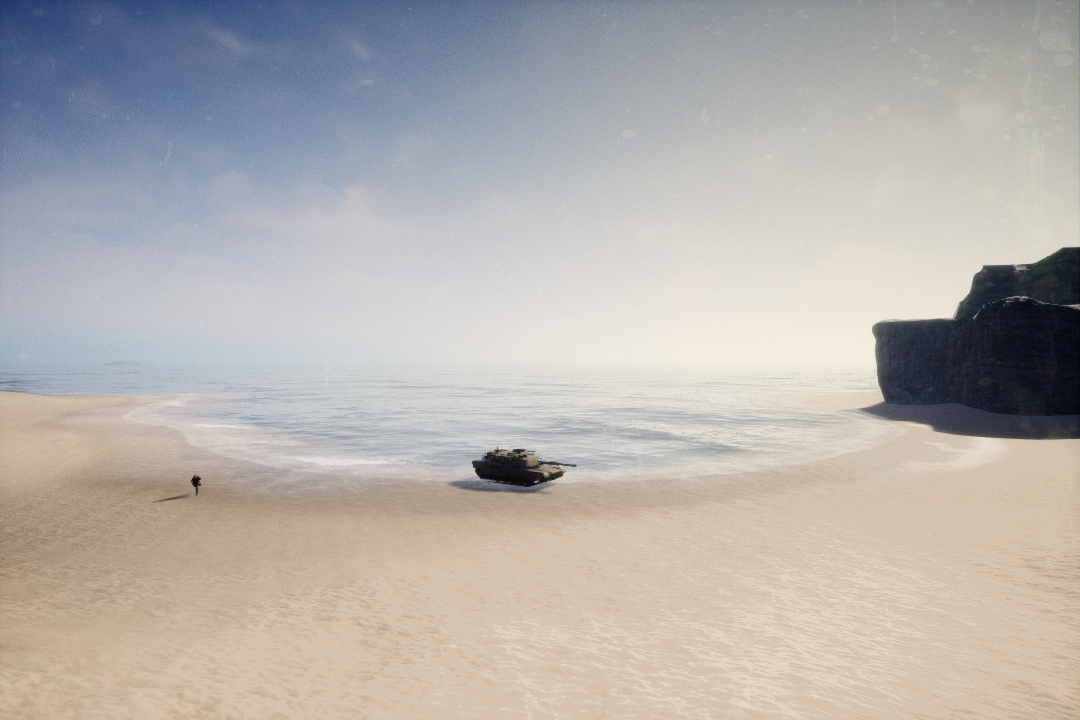person: (189, 471, 206, 498)
tank: (470, 443, 579, 487)
